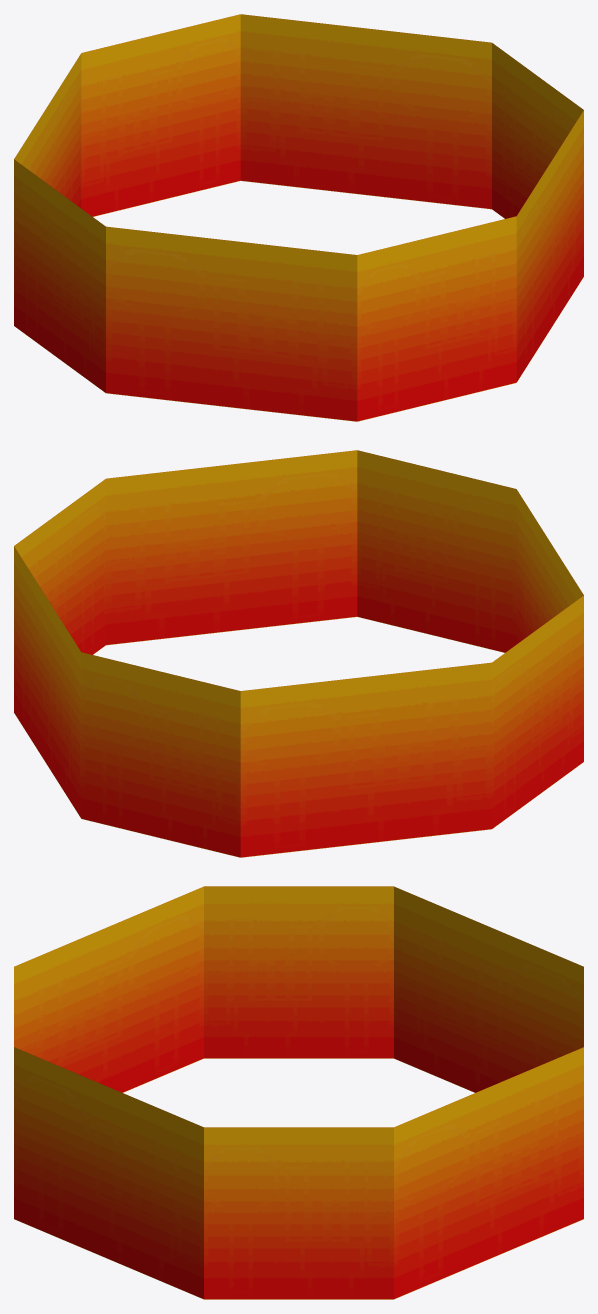
Rendered from lv8_obj_kekkai.dae.
3 views of the same model, one above another, from view 1: azimuth 30°, elevation 25°; view 2: azimuth 150°, elevation 25°; view 3: azimuth 270°, elevation 25° (orthographic). The views are drawn at different scales.
Visible parts, largest first — view 1: Shape 0; view 2: Shape 0; view 3: Shape 0.
Boxes of the visible parts, x1,y1,x2,y2 form: Shape 0: (14, 14, 583, 421); Shape 0: (14, 450, 583, 857); Shape 0: (14, 886, 583, 1299).
Bounding box in the file's own units: 900 × 300 × 900.
1 material, 1 textured.
